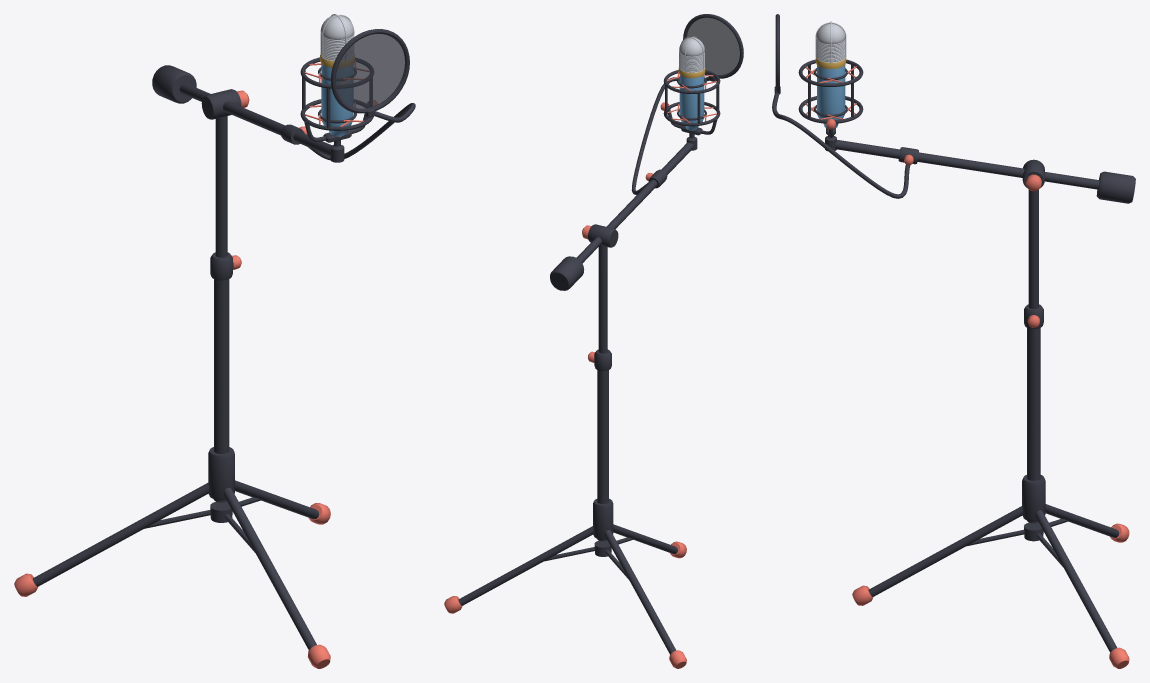
File: studio-microphone.glb
3 views of the same model, side by side, from view 1: azimuth 30°, elevation 25°; view 2: azimuth 150°, elevation 25°; view 3: azimuth 270°, elevation 25° (orthographic). The views are drawn at different scales.
Parts seen in each view (by area): view 1: studio-microphone_body, studio-microphone_pop_screen; view 2: studio-microphone_body, studio-microphone_pop_screen; view 3: studio-microphone_body.
Boxes of the visible parts, left/top/right/bottom form: studio-microphone_body: left=14, top=14, right=415, bottom=668; studio-microphone_pop_screen: left=335, top=34, right=405, bottom=108; studio-microphone_body: left=444, top=14, right=743, bottom=668; studio-microphone_pop_screen: left=686, top=17, right=739, bottom=75; studio-microphone_body: left=772, top=14, right=1135, bottom=668.
Bounding box in the file's own units: 0.6262 × 1.28 × 0.7174.
Materials: 2 (1 with a texture image).
